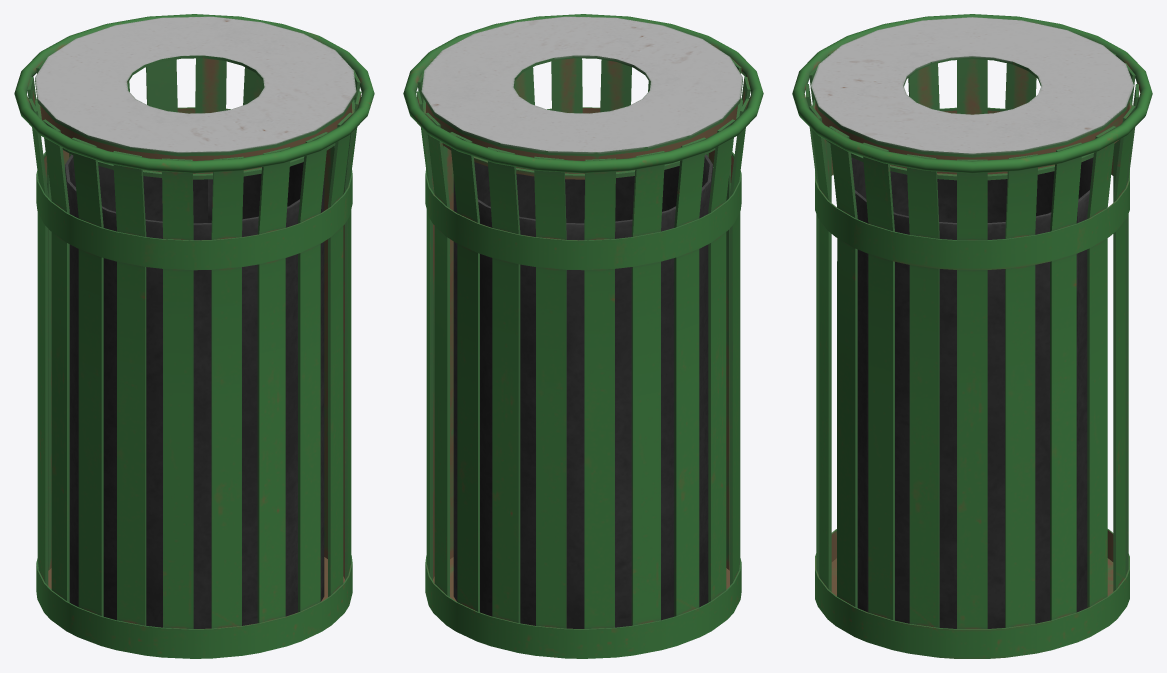
File: waste_bin.glb
The picture shows the model from 3 angles, left to right: view 1: azimuth 30°, elevation 25°; view 2: azimuth 150°, elevation 25°; view 3: azimuth 270°, elevation 25°; orthographic projection.
Visible parts, largest first — view 1: WasteCan; view 2: WasteCan; view 3: WasteCan.
Part boxes in pixels (x1,y1,x2,y2): WasteCan: (14, 14, 374, 658); WasteCan: (403, 14, 763, 658); WasteCan: (792, 14, 1152, 658).
Bounding box in the file's own units: 0.58 × 0.9011 × 0.58.
Materials: 1 (1 with a texture image).
